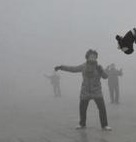person: (54, 47, 114, 132), (101, 61, 126, 107), (43, 68, 64, 99)
